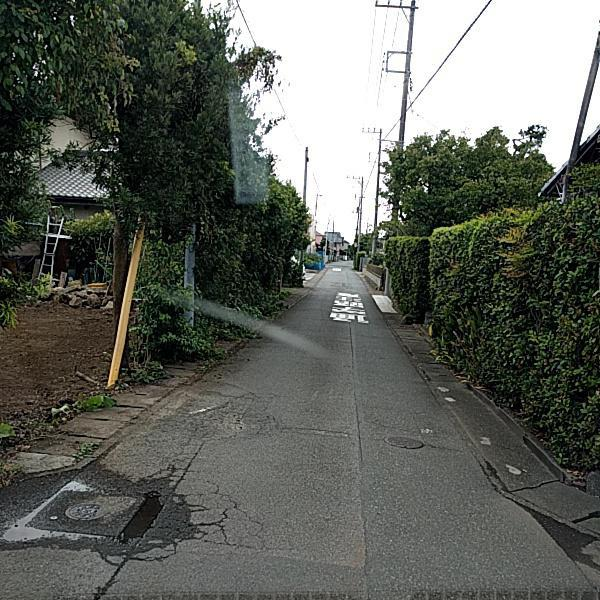D10: (280, 422, 365, 445)
D20: (110, 458, 258, 567)
D50: (380, 432, 421, 450)
